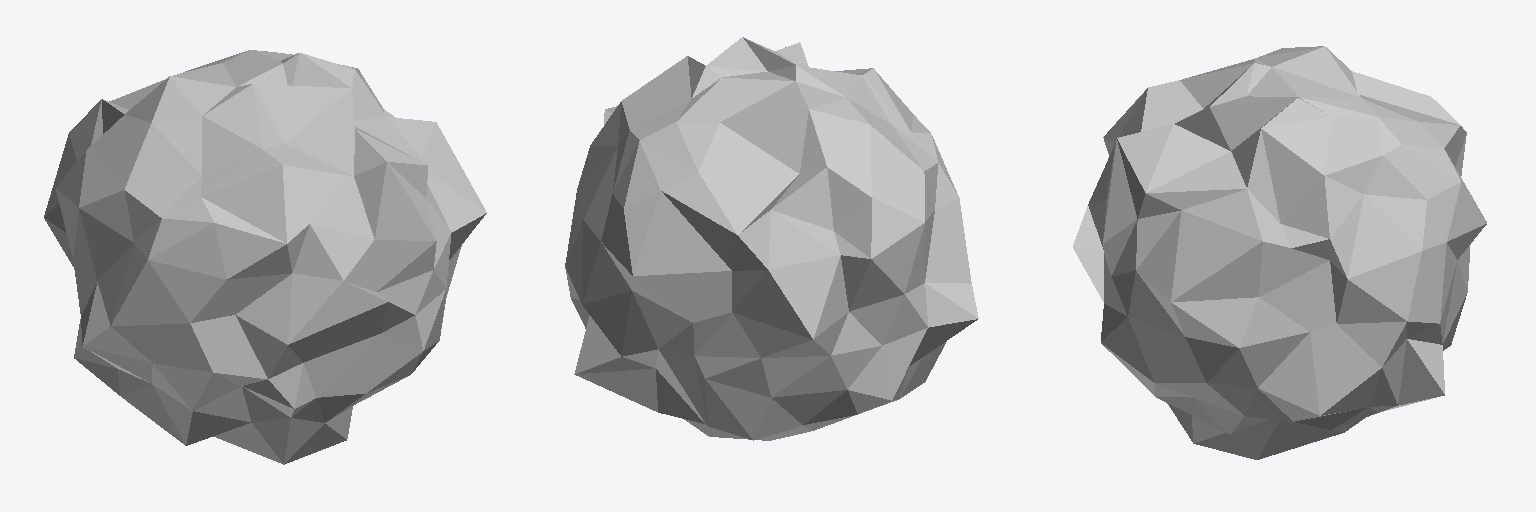
Rendered from fire_000039.obj.
3 views of the same model, side by side, from view 1: azimuth 30°, elevation 25°; view 2: azimuth 150°, elevation 25°; view 3: azimuth 270°, elevation 25° (orthographic).
Visible parts, largest first — view 1: Icosphere; view 2: Icosphere; view 3: Icosphere.
Boxes of the visible parts, <box> form: Icosphere: <box>44,50,486,464</box>; Icosphere: <box>565,37,978,440</box>; Icosphere: <box>1073,46,1486,459</box>.
Bounding box in the file's own units: 1.12 × 1.03 × 1.05.